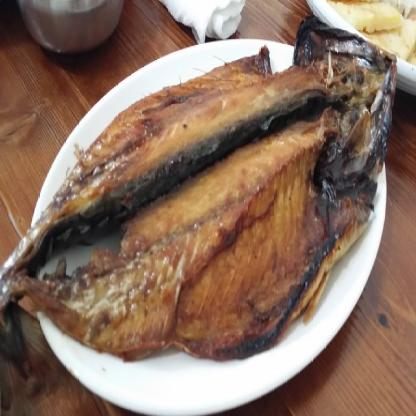Peixe: (0, 22, 388, 415)
